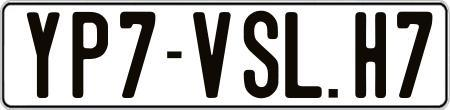7: (394, 9, 430, 98), (120, 12, 155, 98)
H: (353, 11, 387, 100)
L: (284, 12, 324, 103)
P: (72, 12, 108, 100)
S: (244, 8, 281, 97)
V: (191, 12, 234, 104)
Y: (24, 9, 59, 95)
